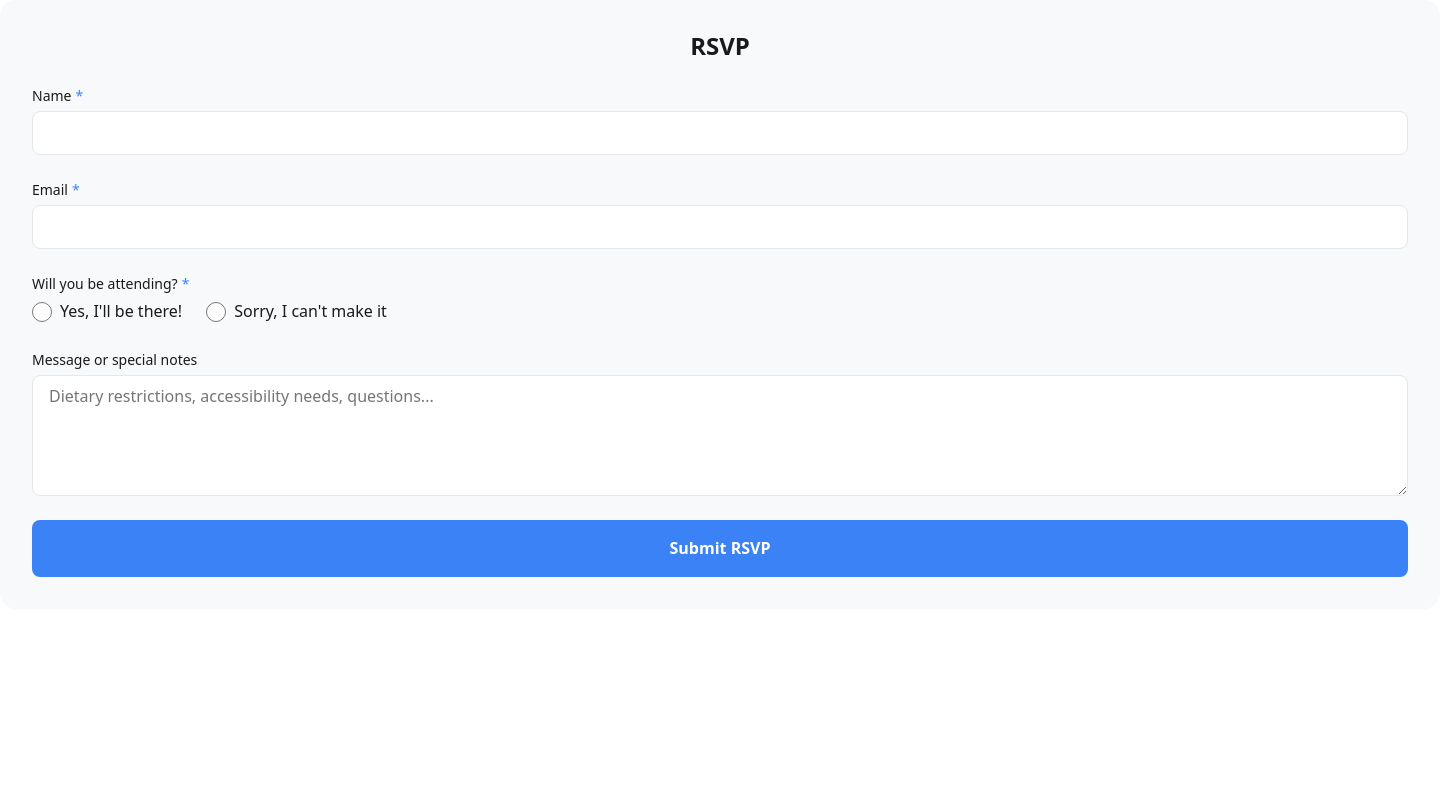
RSVPForm › hides conditional fields when attending is no
Click the radio button labelled "Yes, I'll be there!" at (42, 312), box left=32, top=302, right=52, bottom=322
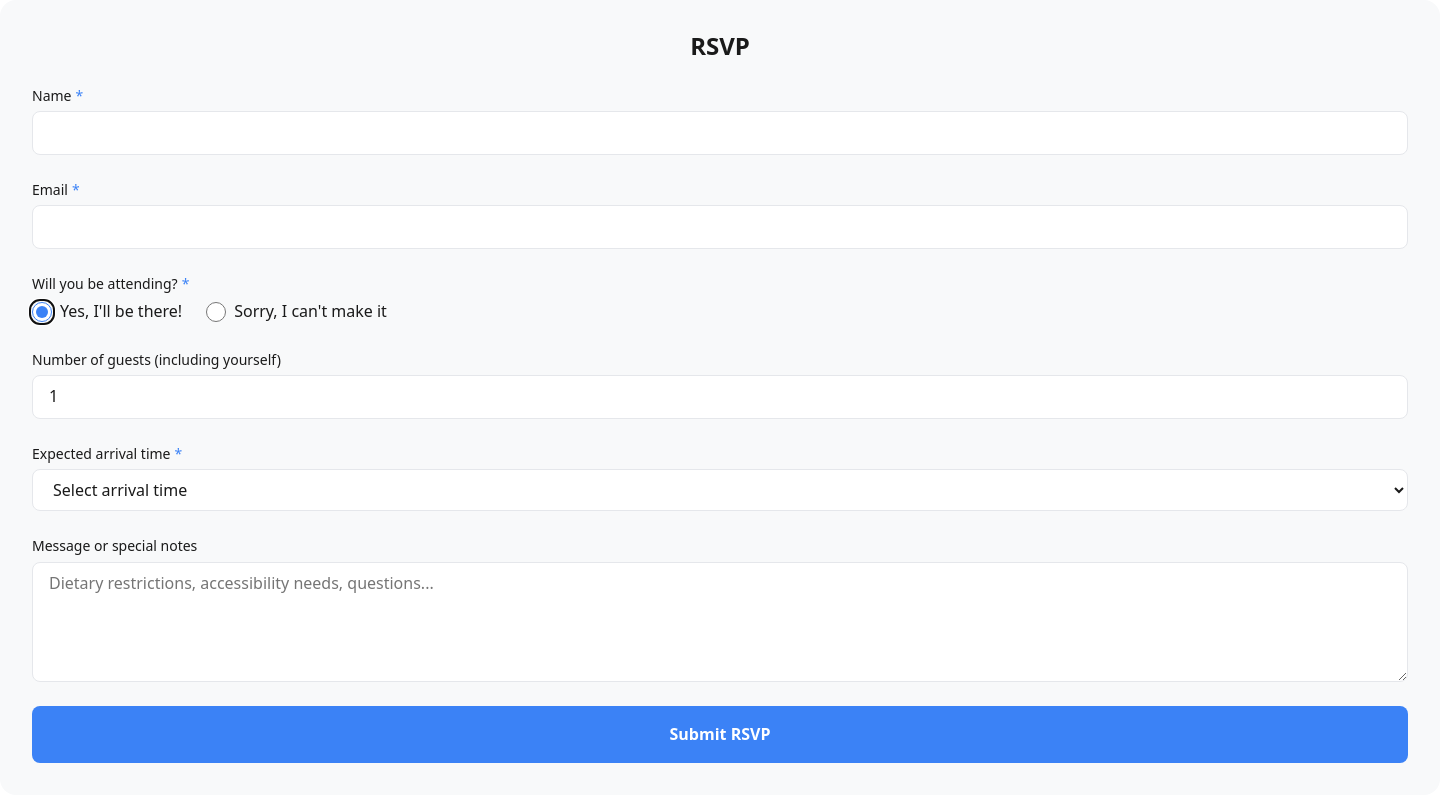
Expected: the number field labelled "Number of guests (including yourself)" is shown, left=32, top=375, right=1408, bottom=419
Click the radio button labelled "Sorry, I can't make it" at (216, 312), box left=206, top=302, right=226, bottom=322
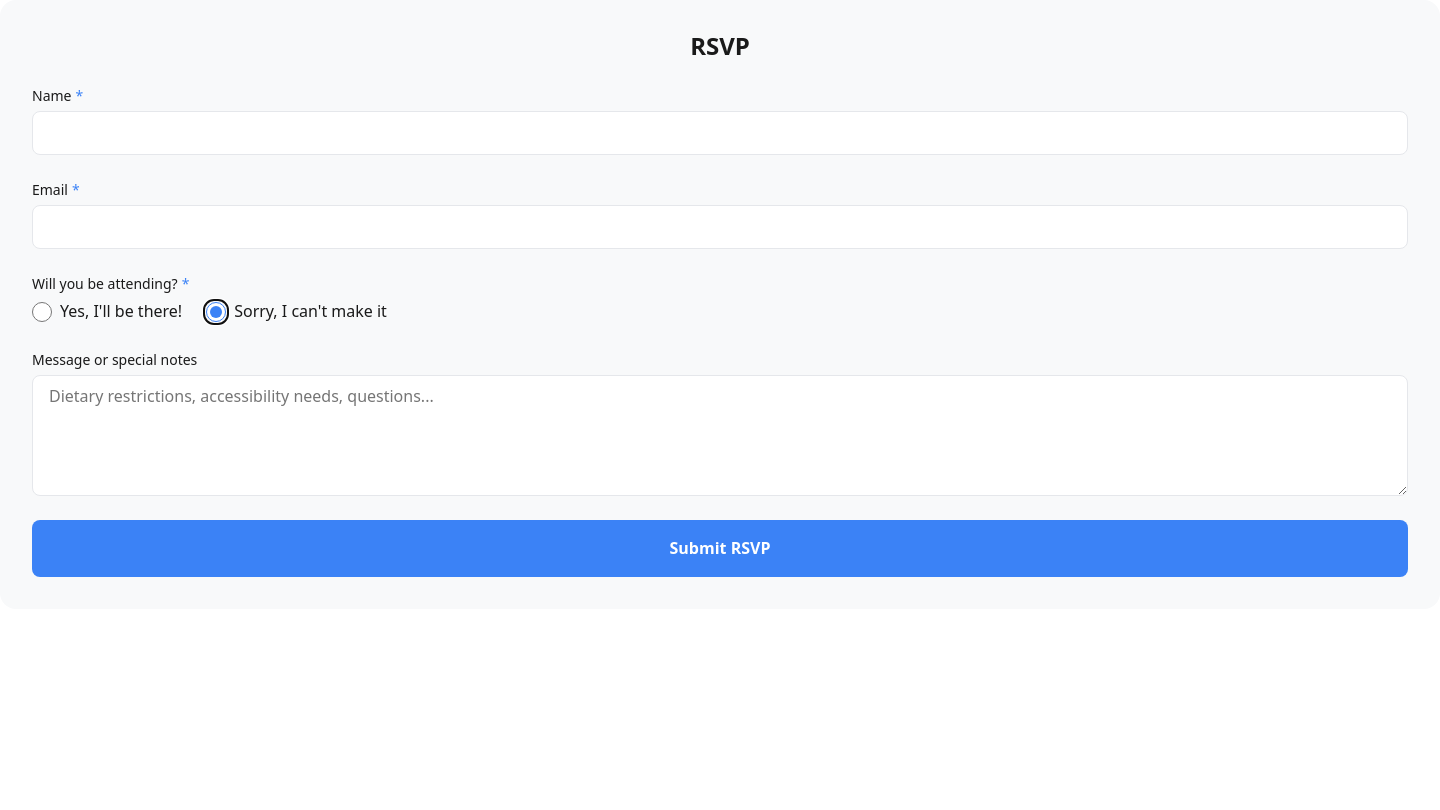
Expected: the label labelled "Number of guests" is gone
